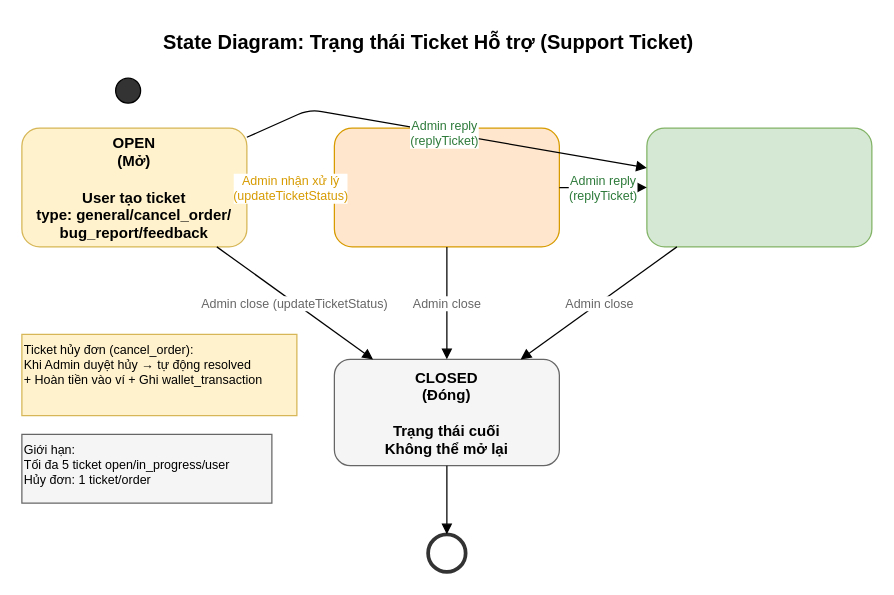
Image size: 894x595. Some labels were removed from this diagram. Each missing label, with the centre of its shape:
"IN_PROGRESS (Đang xử lý) Admin đang làm việc trên ticket" belongs at [446,187].
"RESOLVED (Đã giải quyết) Admin đã reply admin_reply + replied_at" belongs at [759,187].
